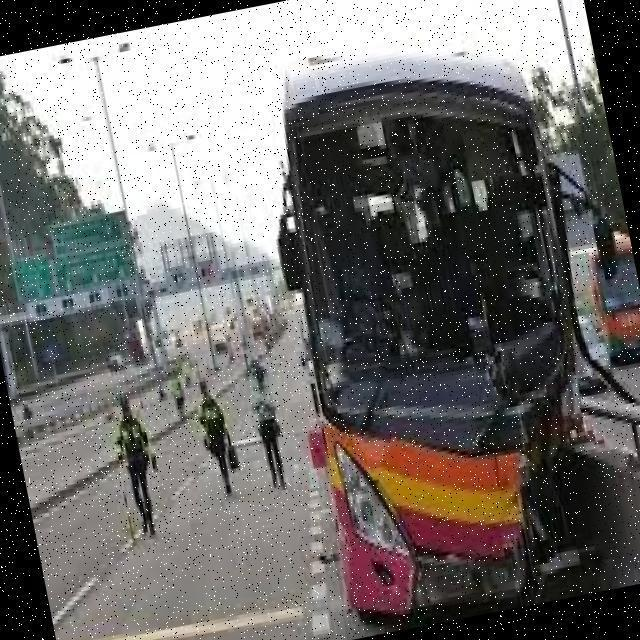accident: (255, 30, 640, 637)
